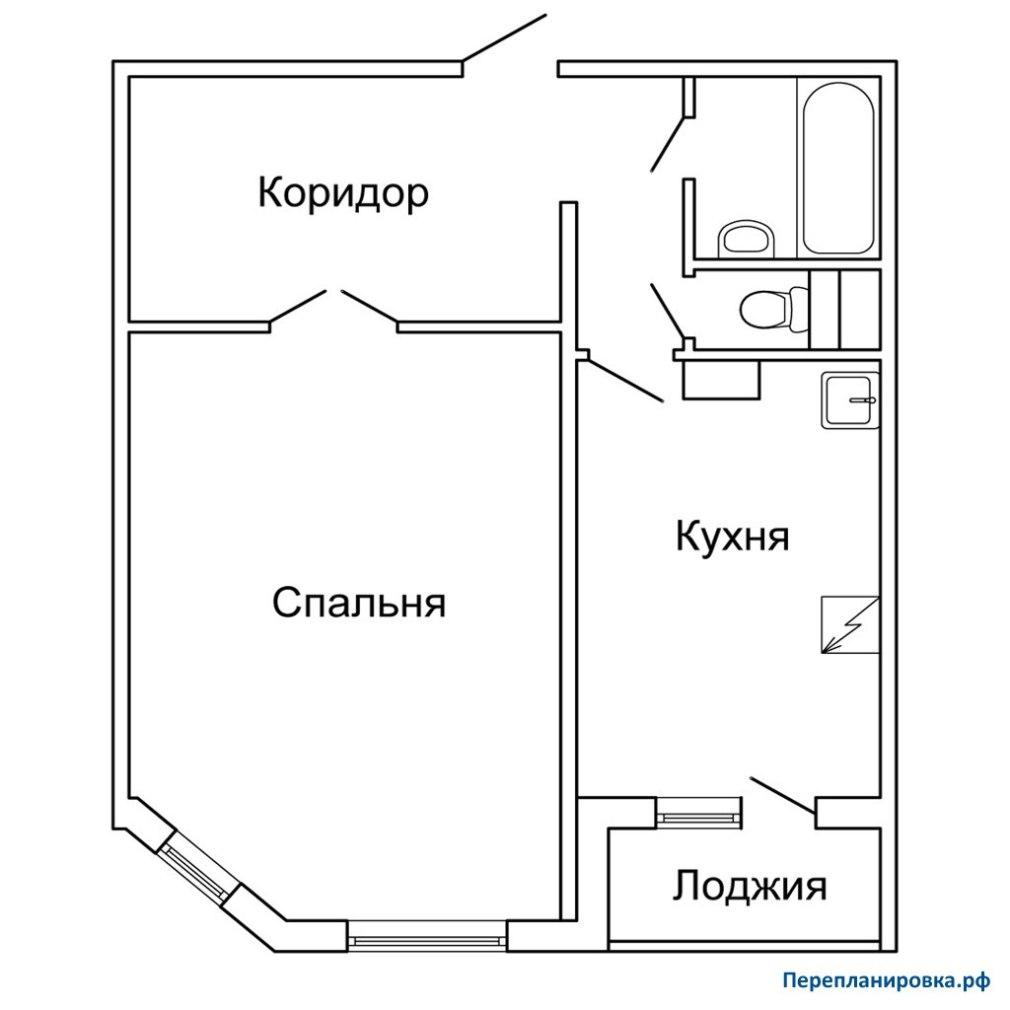bathroom: (696, 74, 880, 257), (697, 270, 883, 349)
bedroom: (129, 334, 561, 921)
hallway: (129, 76, 686, 350)
kitchen: (579, 363, 879, 796)
terrace: (607, 827, 880, 941)
